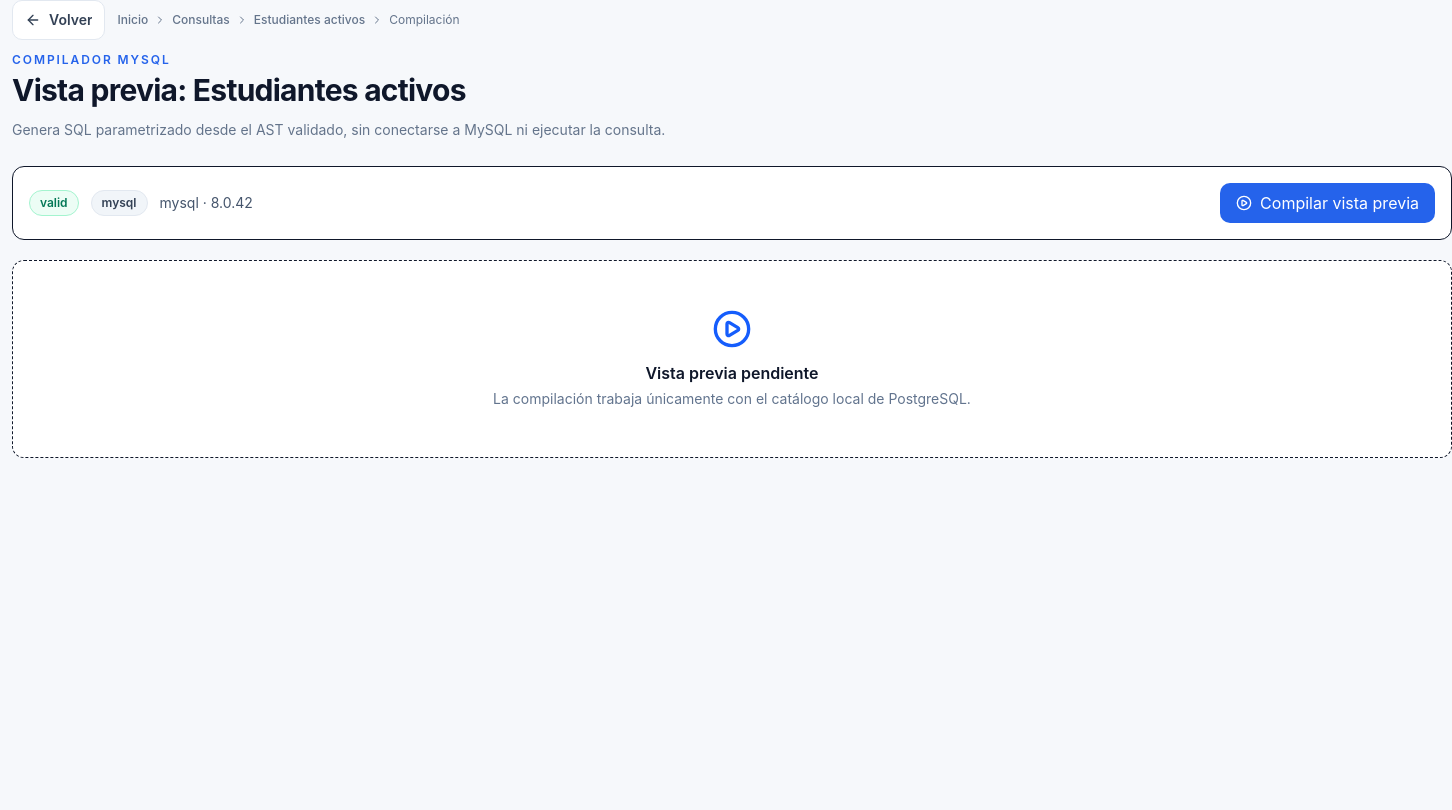
Test: QueryCompilePage › shows parameterized SQL and confirms it was not executed
Click the button "Compilar vista previa" at (1328, 202), box [1220,182,1435,222]
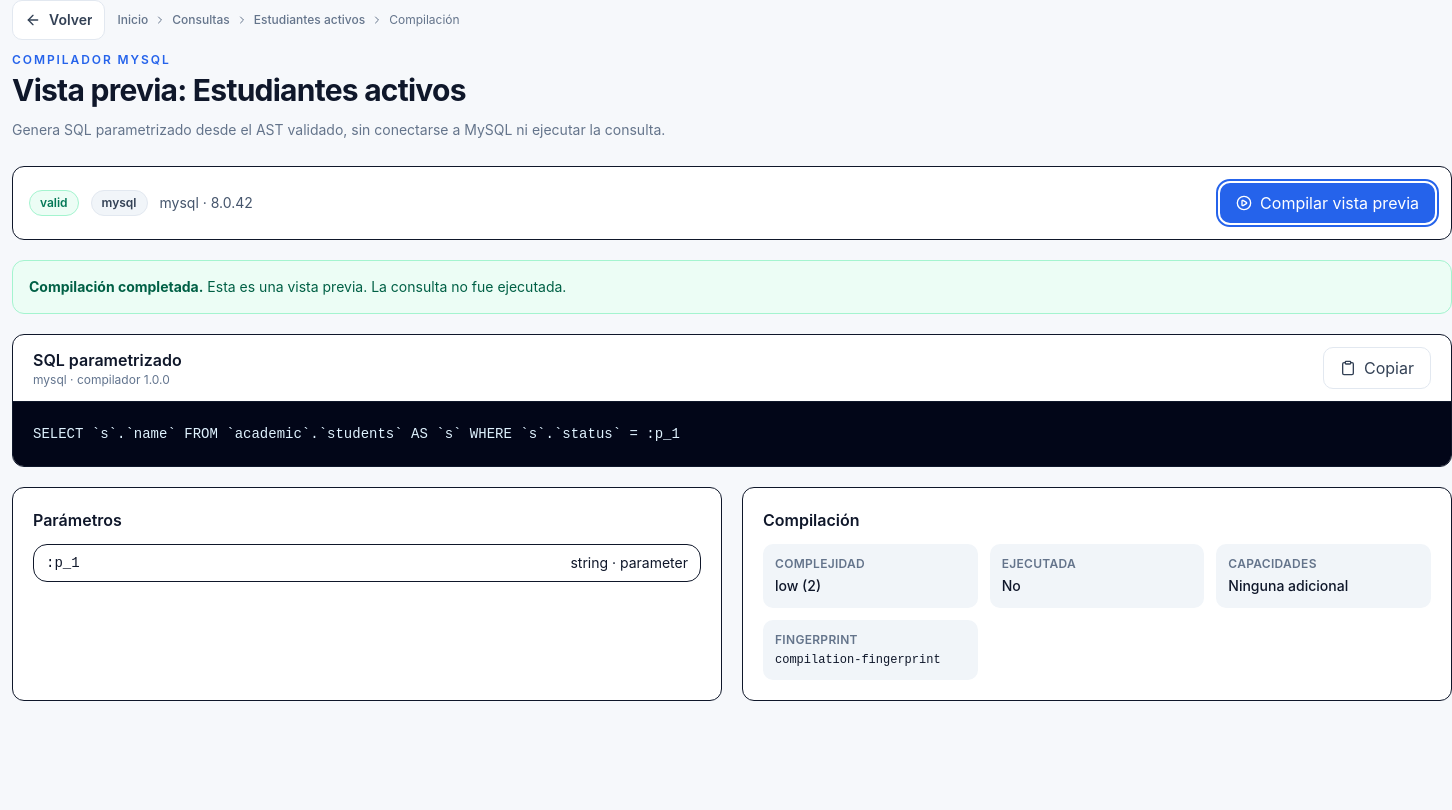
Result: the text "consulta no fue ejecutada" is shown at [203,278,566,294]
Result: the element named "SQL parametrizado de solo lectura" shows ":p_1" at [33,426,680,442]
